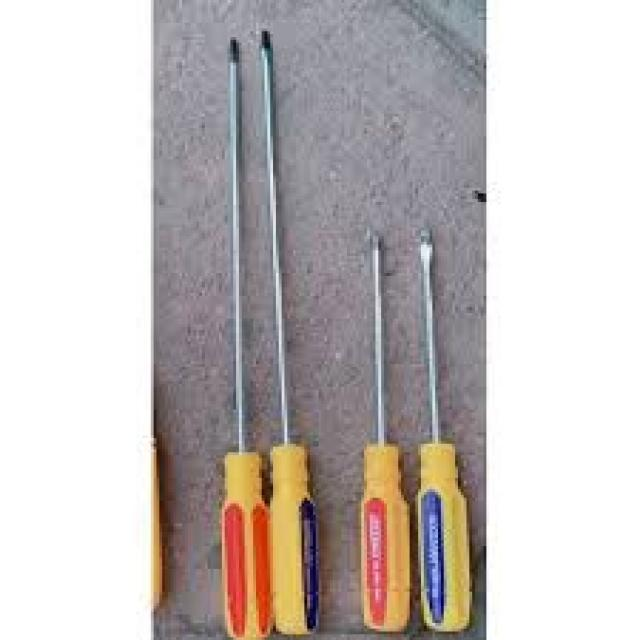screwdriver: (255, 24, 318, 636), (220, 25, 269, 638), (415, 222, 475, 637), (357, 220, 414, 636)
